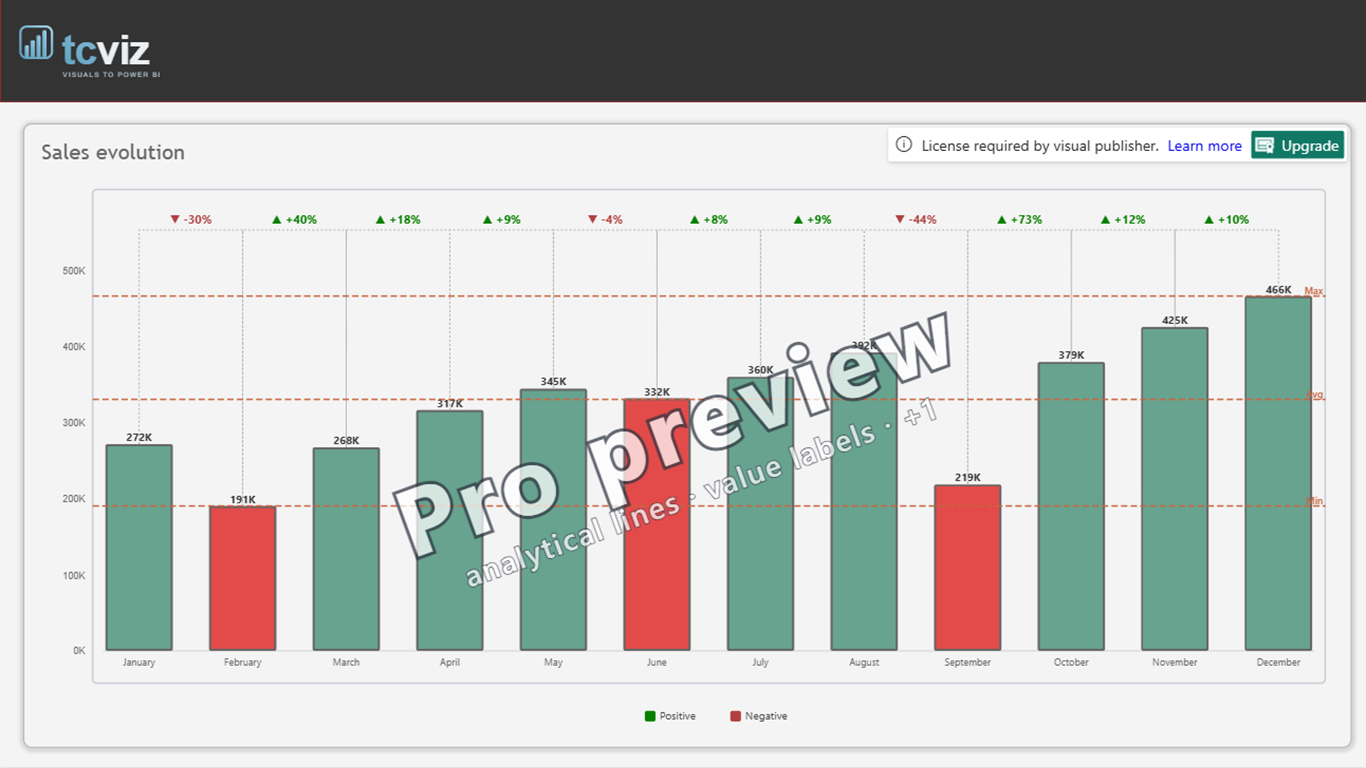

The page's visual inventory and layout, read from the dashboard file:
{"tool":"powerbi","page":{"name":"Page 1","canvas":[1280,720],"ordinal":0},"visuals":[{"type":"barChartVariation98877665544332211","box":[10,0,280,280],"z":0},{"type":"barChartVariation98877665544332211","fields":{"series":["SalesData.Country"],"measure":["Sum(SalesData.Sales)"],"category":["SalesData.Year"]},"box":[9.9,14.2,1261.2,691.5],"z":1}]}

Visuals, with their boxes on the page's 1280x720 design canvas (x1, y1, x2, y2). These are canvas units, not pixel positions in the 1366x768 screenshot, which may show the page scaled, cropped or inside an application window:
barChartVariation98877665544332211: <region>10, 0, 290, 280</region>
barChartVariation98877665544332211 - SalesData.Country x Sum(SalesData.Sales): <region>10, 14, 1271, 706</region>
